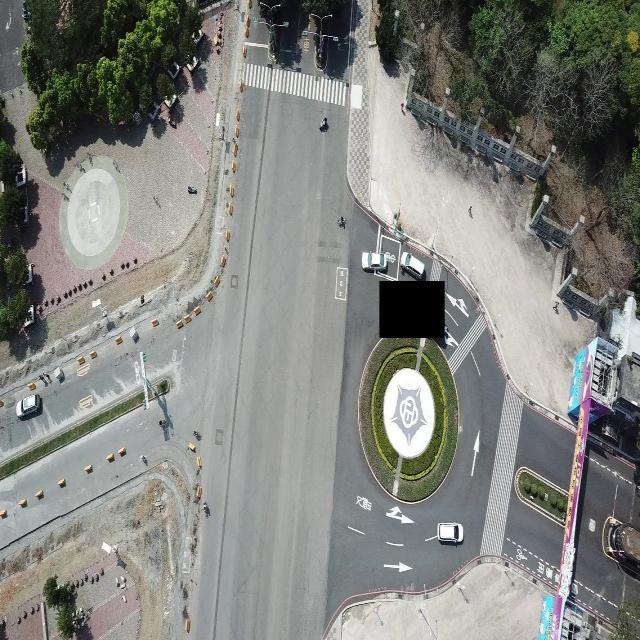bike: (190, 429, 206, 442), (202, 498, 210, 518), (320, 114, 328, 133), (155, 418, 167, 428), (338, 214, 345, 227)
car: (399, 252, 427, 280), (18, 392, 42, 420), (362, 249, 388, 273), (438, 522, 463, 546)
